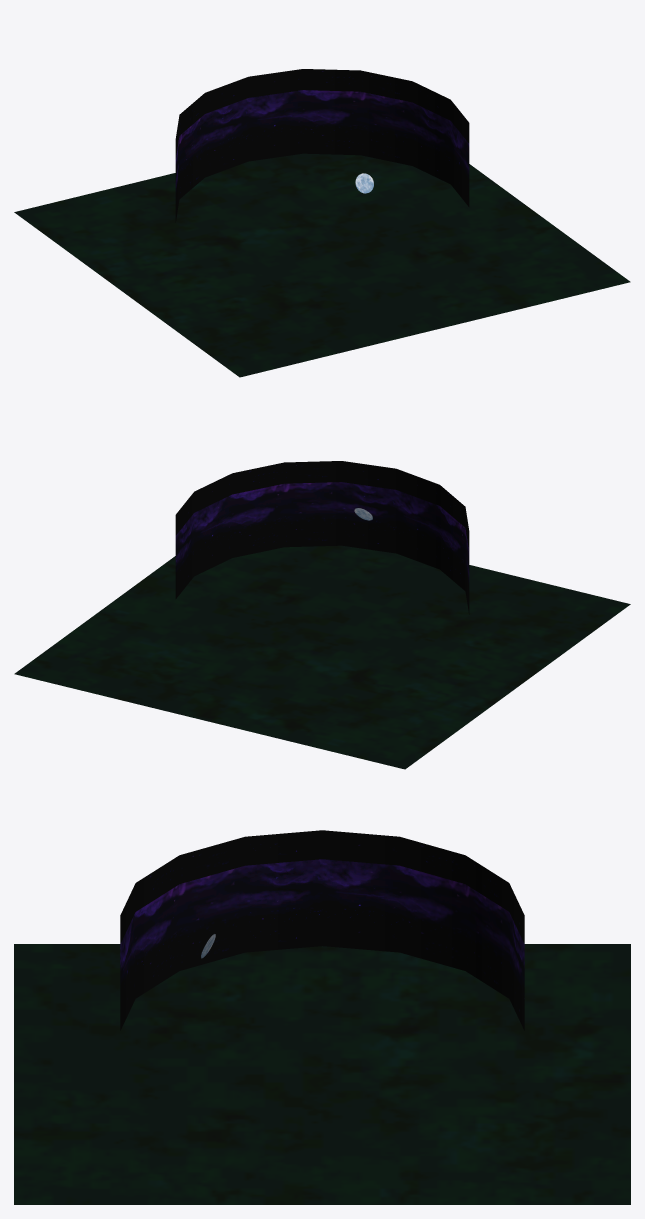
Rendered from INST_LT_SKYBOX_01.obj.
The picture shows the model from 3 angles, top to bottom: view 1: azimuth 30°, elevation 25°; view 2: azimuth 150°, elevation 25°; view 3: azimuth 270°, elevation 25°; orthographic projection. The views are drawn at different scales.
Visible parts, largest first — view 1: Ocean_Floor_5, Cylinder01, Object02; view 2: Ocean_Floor_5, Cylinder01, Object02; view 3: Ocean_Floor_5, Cylinder01, Object02.
Part boxes in pixels (bbox=[...]): Ocean_Floor_5: bbox=[14, 153, 630, 377]; Cylinder01: bbox=[175, 90, 469, 222]; Object02: bbox=[175, 69, 469, 158]; Ocean_Floor_5: bbox=[14, 545, 630, 769]; Cylinder01: bbox=[175, 482, 469, 614]; Object02: bbox=[175, 461, 469, 550]; Ocean_Floor_5: bbox=[14, 944, 630, 1204]; Cylinder01: bbox=[120, 859, 524, 1030]; Object02: bbox=[120, 830, 524, 943].
Size of the model in its own units: 1880 by 548 by 1880.
